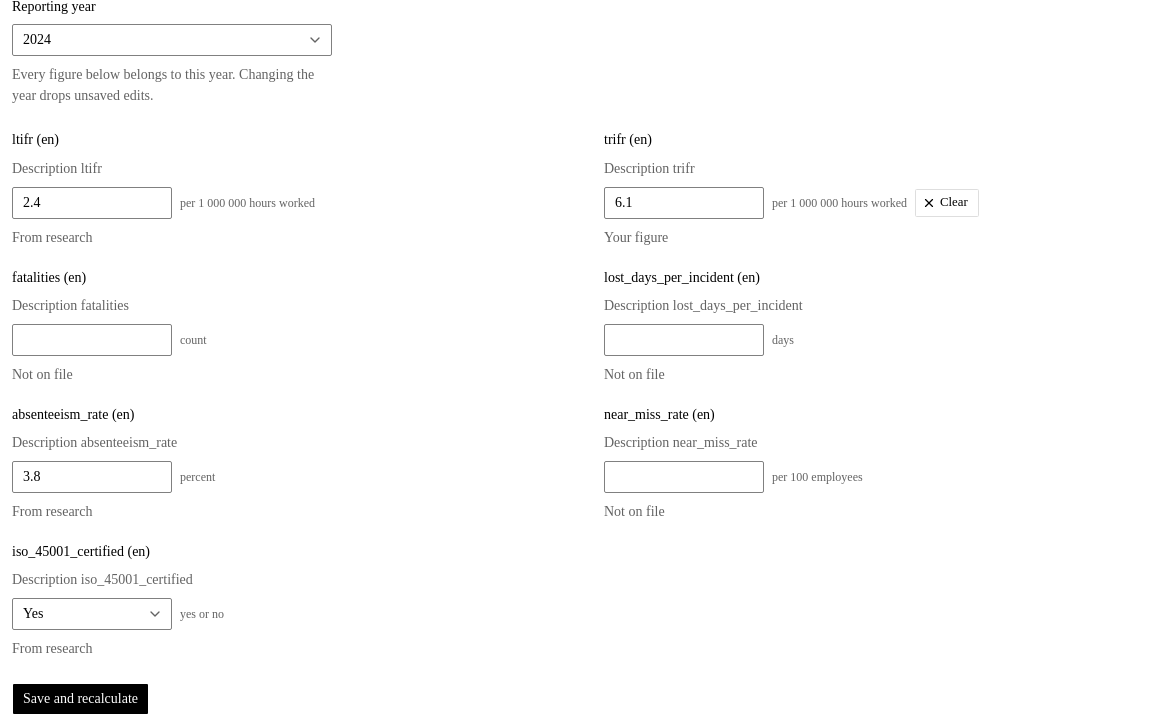
Test: KpiForm (AC-3, AC-7) › refills every field on a year change and lists the KPIs with a newer year in the hint
Type "3" into the field labelled "fatalities (en)". click: point(92, 340)
box: x1=12 y1=324 x2=172 y2=356
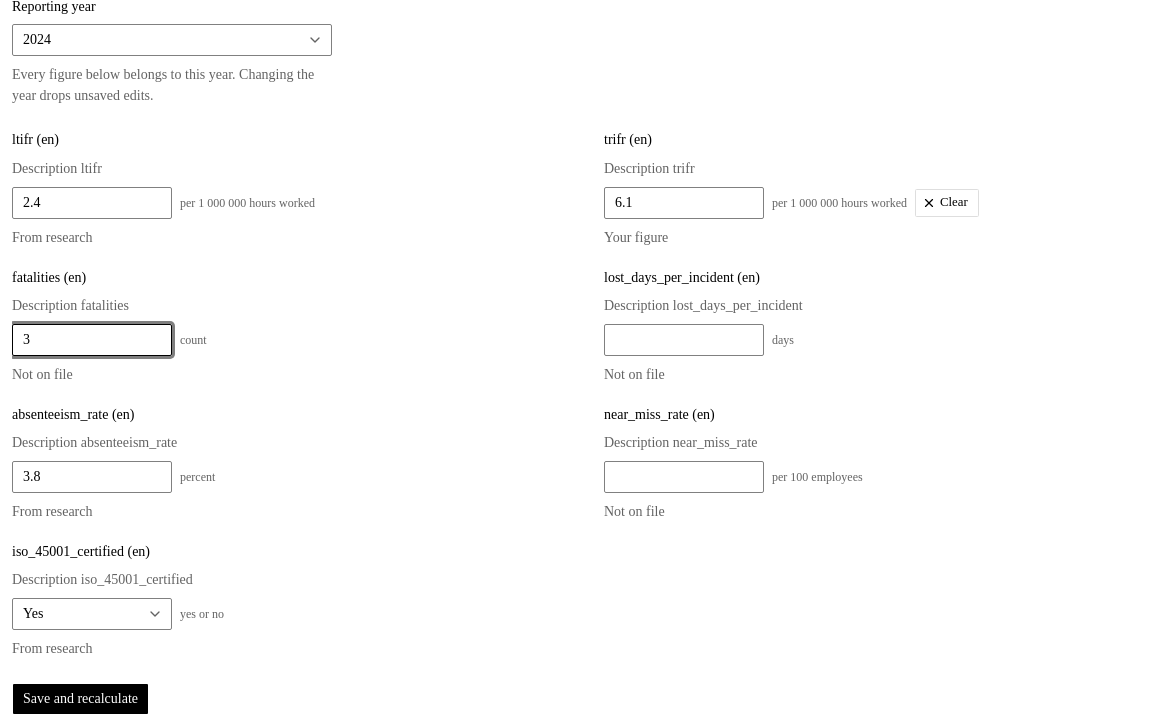
Click the dropdown named "Reporting year". click: point(37, 40)
box: x1=12 y1=24 x2=332 y2=56
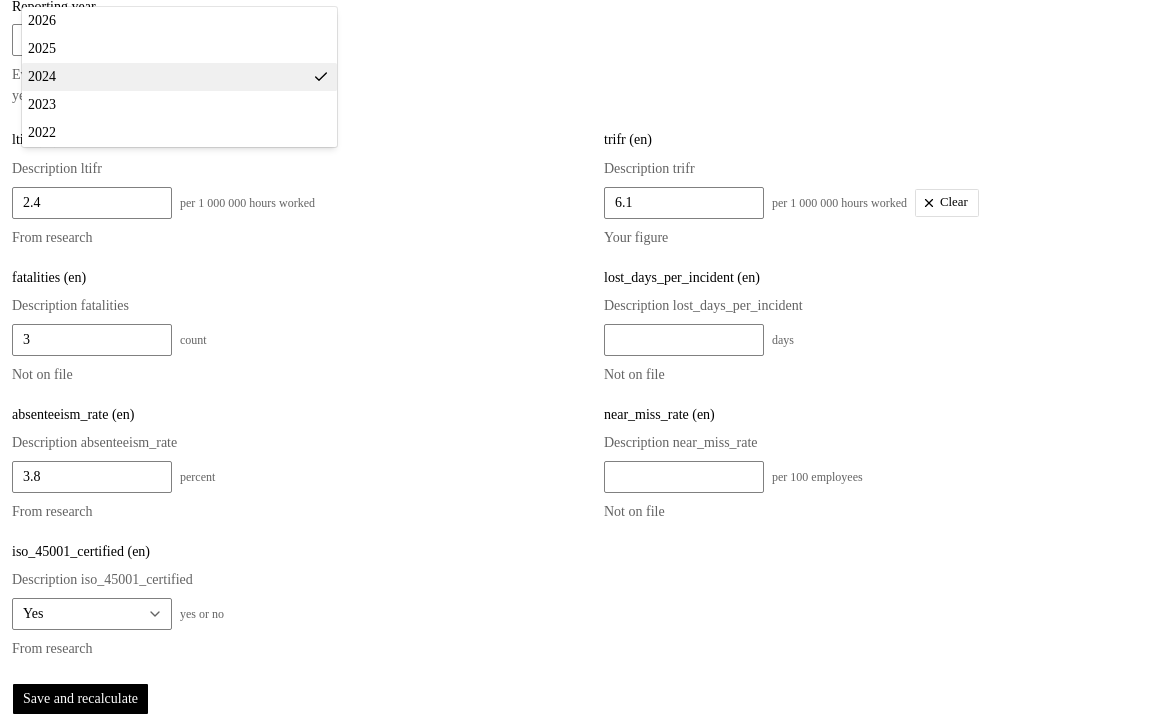
Click the option "2023". click: point(42, 104)
box: x1=28 y1=97 x2=56 y2=112
(page scrolled)
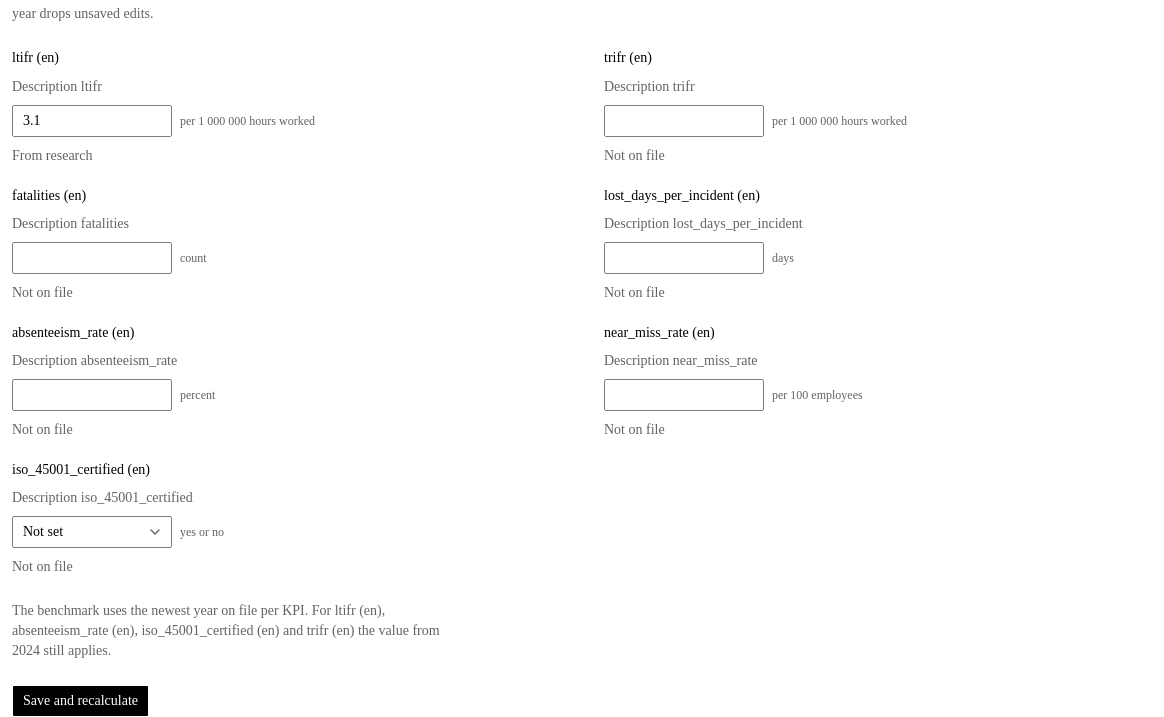
Now the field labelled "ltifr (en)" holds "3.1", box x1=12 y1=104 x2=172 y2=136
Now the text "Not on file" below "Description trifr" is shown, box x1=604 y1=148 x2=665 y2=162
Now the text "The benchmark uses the newest year on file per KPI." is shown, box x1=12 y1=603 x2=308 y2=618
